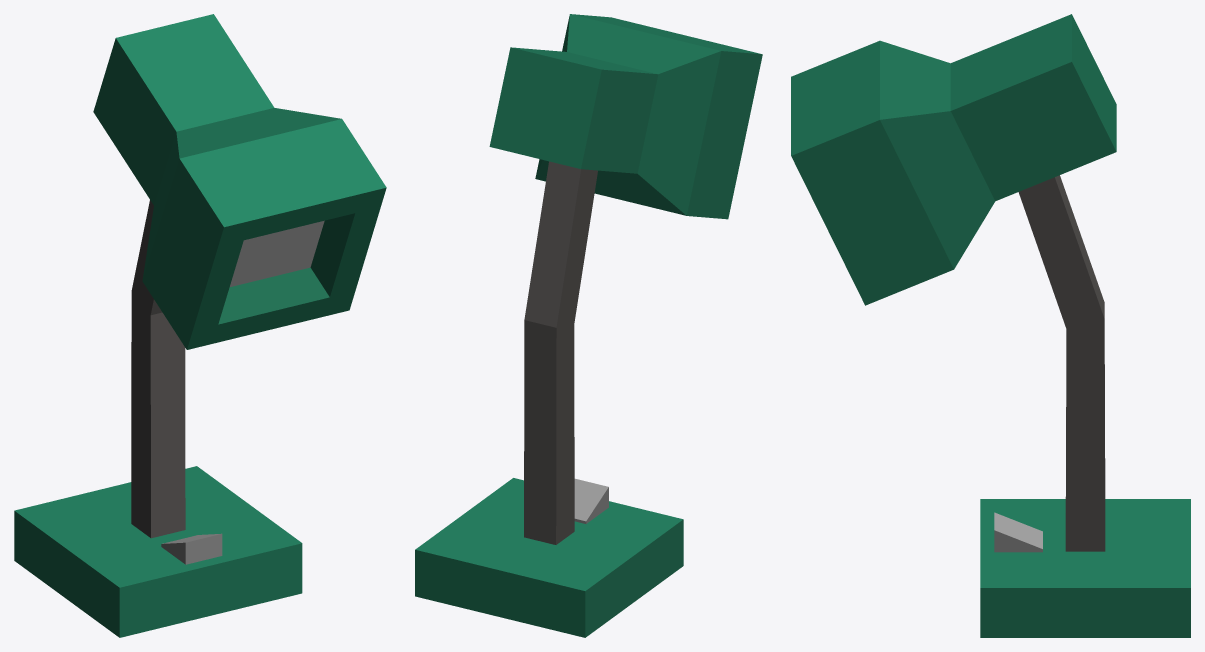
File: SO_Lamp_02.fbx
The picture shows the model from 3 angles, left to right: view 1: azimuth 30°, elevation 25°; view 2: azimuth 150°, elevation 25°; view 3: azimuth 270°, elevation 25°; orthographic projection. The views are drawn at different scales.
Visible parts, largest first — view 1: SO_Lamp_02; view 2: SO_Lamp_02; view 3: SO_Lamp_02.
Part boxes in pixels (bbox=[...]): SO_Lamp_02: bbox=[14, 14, 386, 637]; SO_Lamp_02: bbox=[415, 14, 762, 637]; SO_Lamp_02: bbox=[791, 14, 1190, 637].
Bounding box in the file's own units: 0.2725 × 0.7928 × 0.5171.
